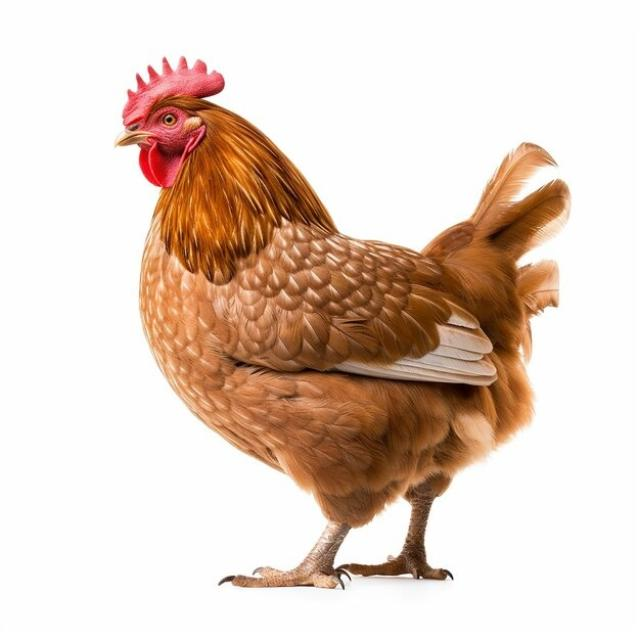Chicken: (115, 55, 571, 590)
